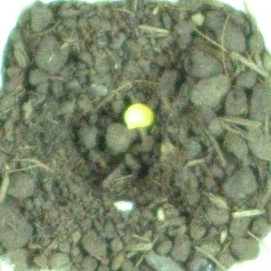pepper seed: (46, 37, 201, 168)
